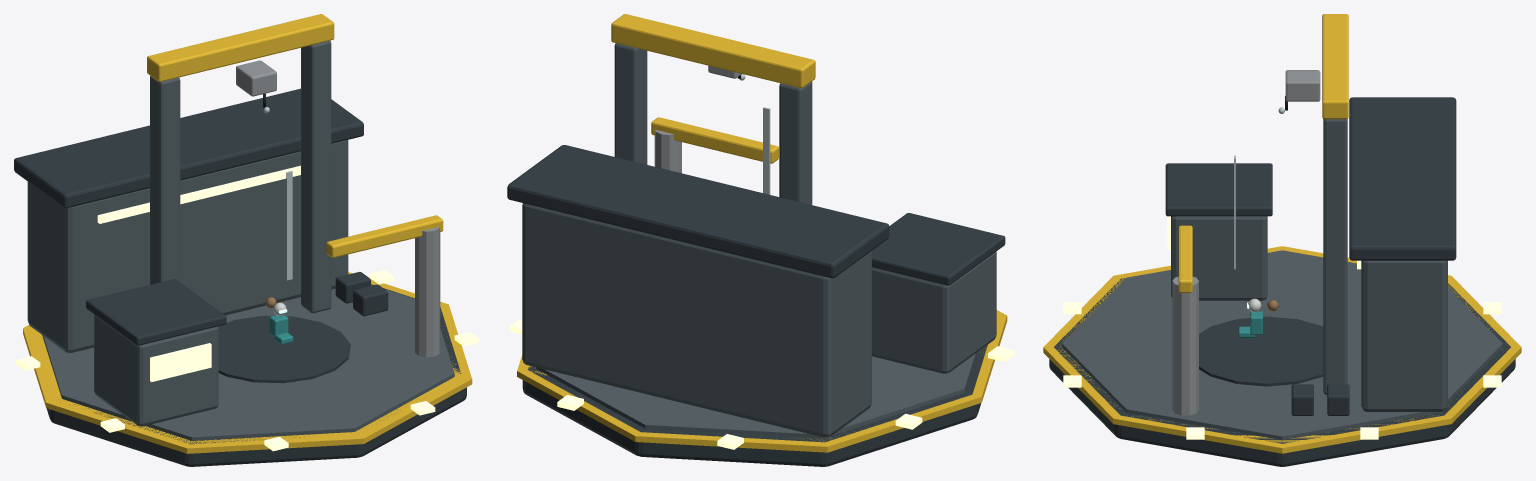
Rendered from drone_factory.fbx.
The picture shows the model from 3 angles, left to right: view 1: azimuth 30°, elevation 25°; view 2: azimuth 150°, elevation 25°; view 3: azimuth 270°, elevation 25°; orthographic projection. The views are drawn at different scales.
Parts seen in each view (by area): view 1: drone_factory, ANIM_spin_z_20__crane_arm, ANIM_pulse_0.5__lightbar; view 2: drone_factory, ANIM_spin_z_20__crane_arm, ANIM_pulse_0.5__lightbar; view 3: drone_factory, ANIM_spin_z_20__crane_arm.
Boxes of the visible parts, x1,y1,x2,y2 form: drone_factory: (14,14,478,466); ANIM_spin_z_20__crane_arm: (326,215,443,257); ANIM_pulse_0.5__lightbar: (286,171,292,280); drone_factory: (507,14,1014,466); ANIM_spin_z_20__crane_arm: (651,117,778,163); ANIM_pulse_0.5__lightbar: (763,107,770,194); drone_factory: (1043,14,1521,466); ANIM_spin_z_20__crane_arm: (1178,225,1192,292).
Size of the model in its own units: 4.69 by 3.49 by 4.69.
